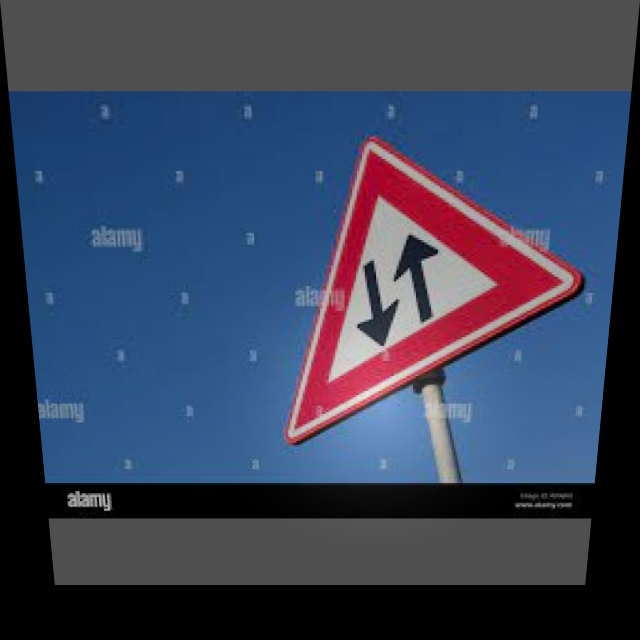Mandatory_Two_Way_Traffic: (277, 141, 585, 415)
